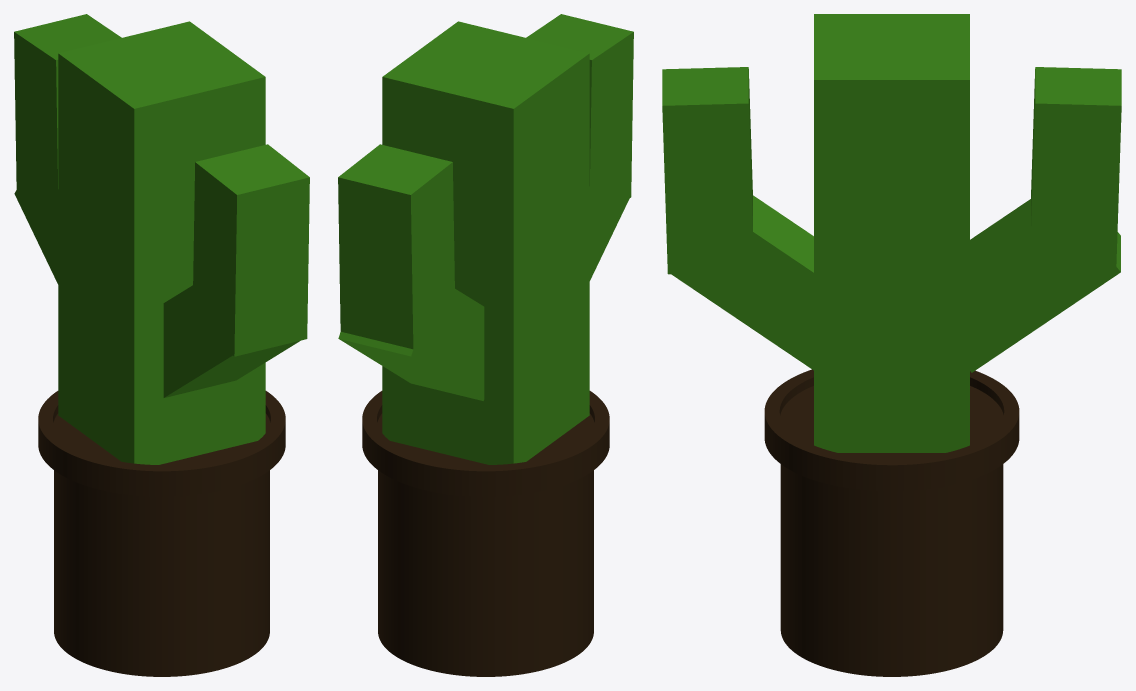
The model's file is Cactus_LowPoly.fbx.
3 renders of one model, left to right at view 1: azimuth 30°, elevation 25°; view 2: azimuth 150°, elevation 25°; view 3: azimuth 270°, elevation 25°, orthographic. The views are drawn at different scales.
Visible parts, largest first — view 1: Cube; view 2: Cube; view 3: Cube.
Boxes of the visible parts, x1,y1,x2,y2 form: Cube: (14, 14, 309, 676); Cube: (338, 14, 633, 676); Cube: (662, 14, 1121, 676).
Bounding box in the file's own units: 160 × 405 × 289.
